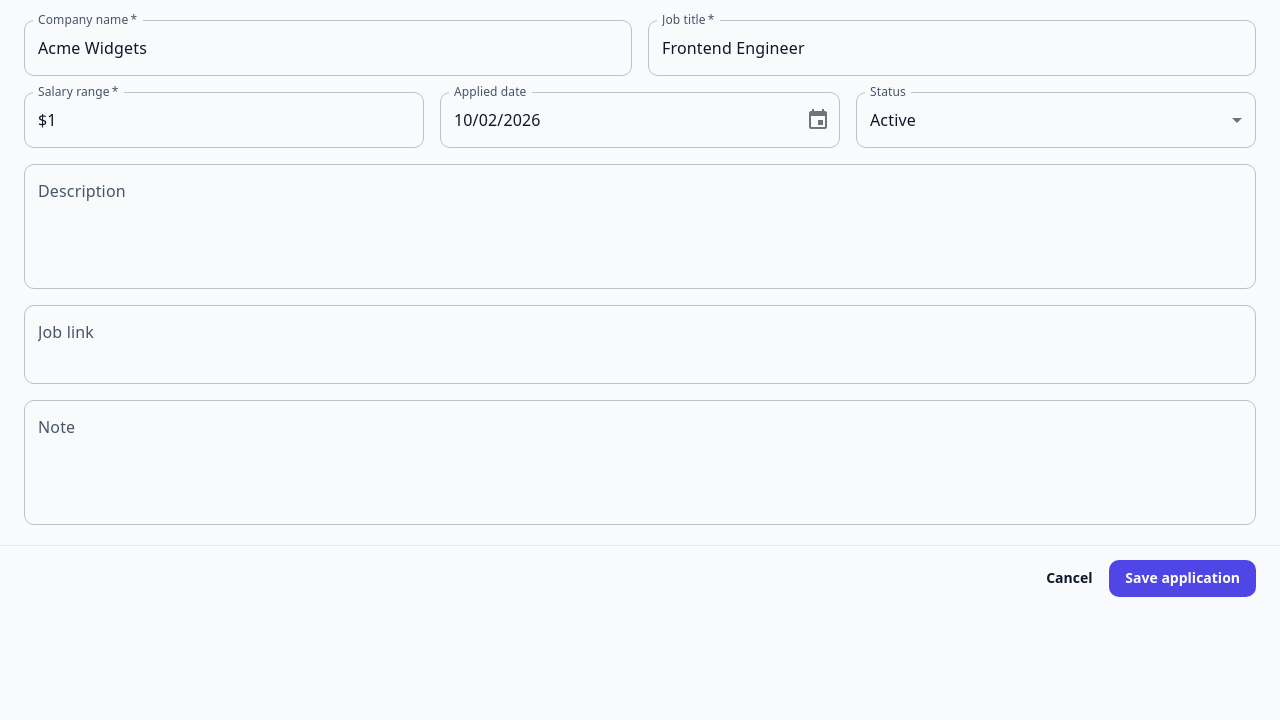
Test case: job application save › a failed save shows an error and keeps the dialog open
Click the button "Save application" at (1183, 578), box [1109,560,1256,596]
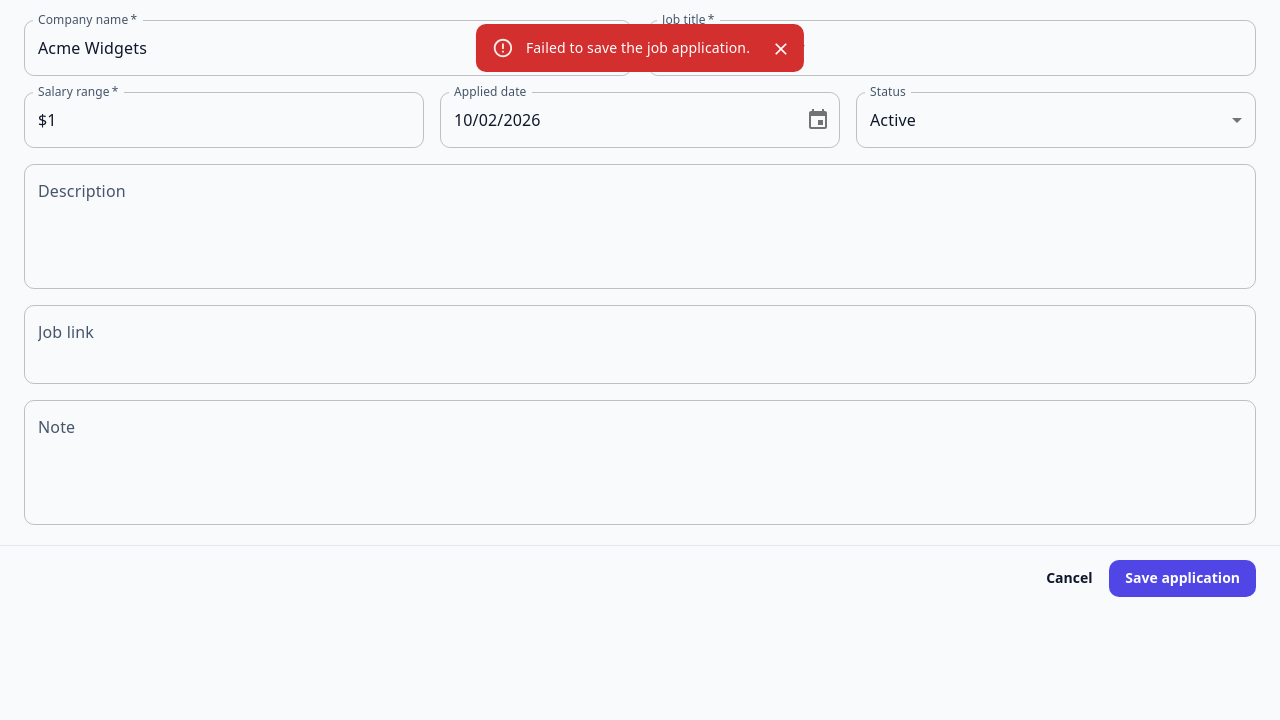
Check: the text "Failed to save the job application." is shown, box [526,38,750,57]
